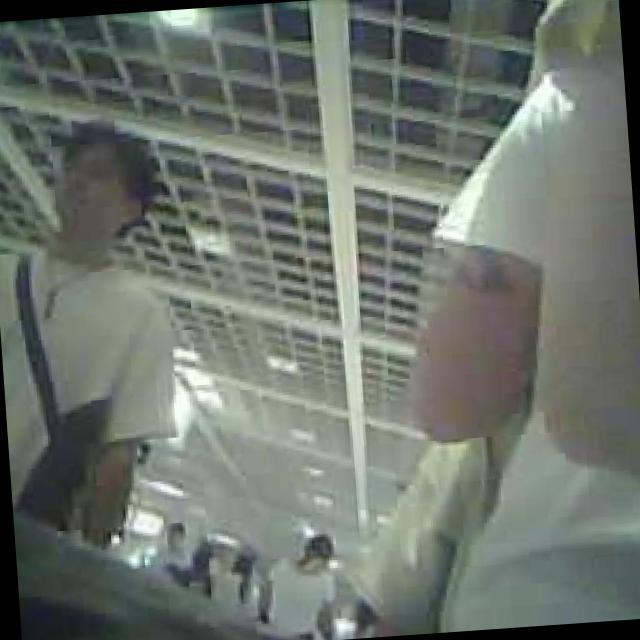person: (382, 0, 640, 631), (0, 113, 204, 541), (253, 527, 347, 640)
